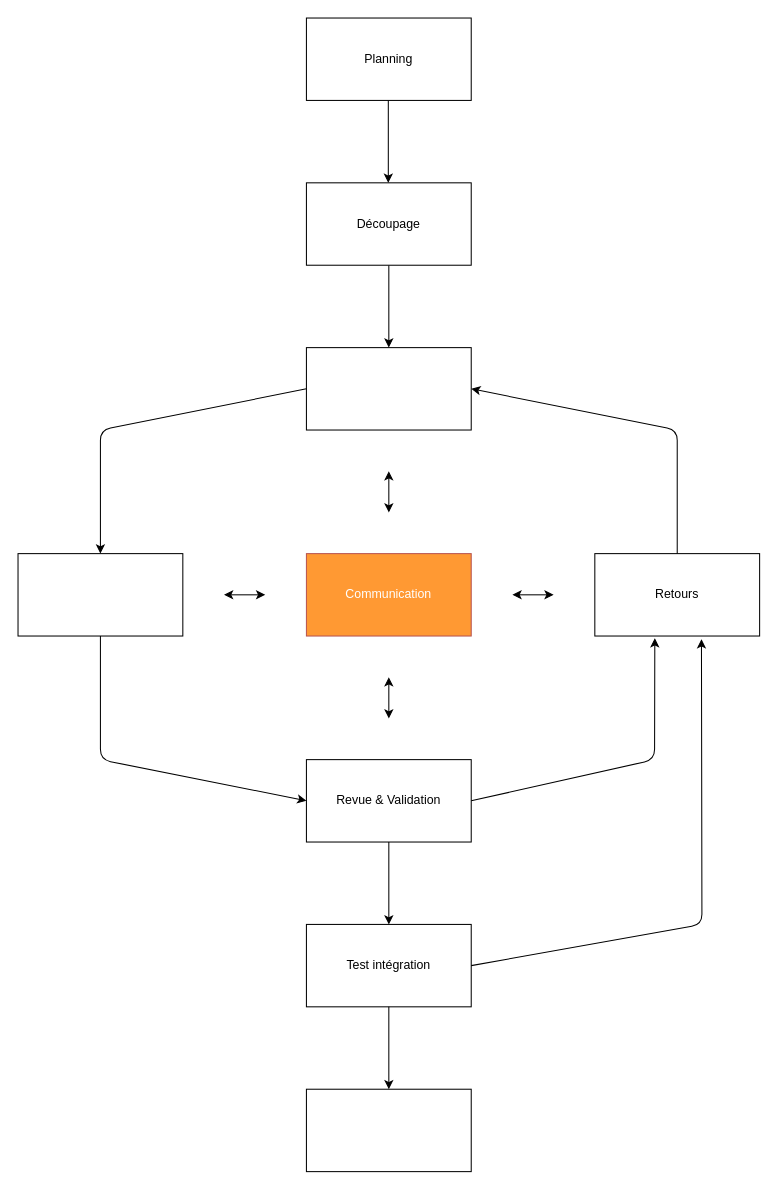
The diagram is 778 pixels wide and 1190 high, and some of its shapes have lost their labels. Each missing label, with the centre of its shape:
"Livraison" belongs at point 388,1130.
"Réalisation" belongs at point 388,388.
"Tests" belongs at point 100,594.
